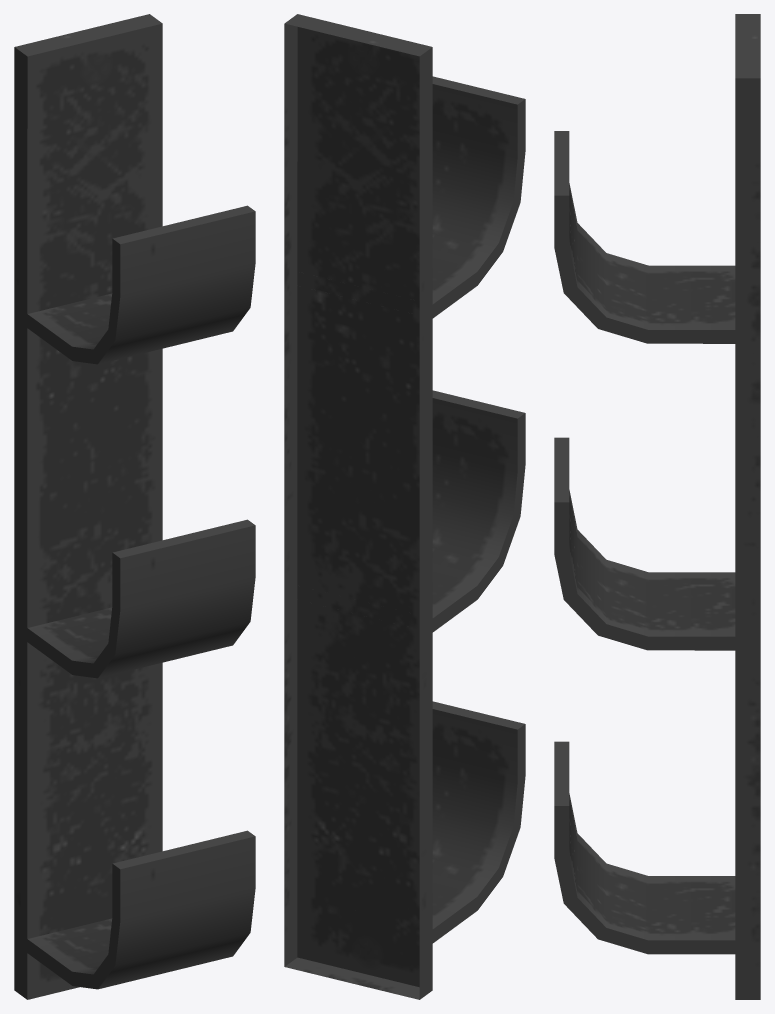
File: Mount.fbx
3 renders of one model, left to right at view 1: azimuth 30°, elevation 25°; view 2: azimuth 150°, elevation 25°; view 3: azimuth 270°, elevation 25°, orthographic. The views are drawn at different scales.
Visible parts, largest first — view 1: Mount; view 2: Mount; view 3: Mount.
Boxes of the visible parts, x1,y1,x2,y2 form: Mount: (14, 14, 255, 999); Mount: (284, 14, 525, 999); Mount: (554, 14, 760, 999).
Size of the model in its own units: 3 by 20 by 4.06.
